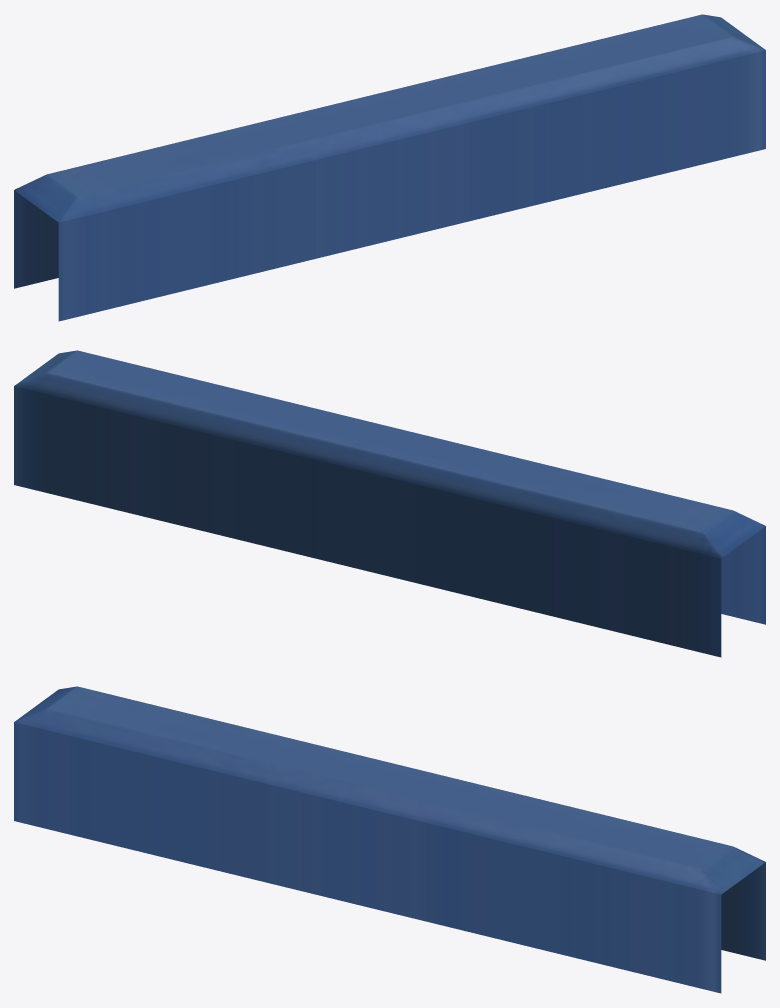
The model's file is Old_Computer_Spacebar_New_2.glb.
3 views of the same model, one above another, from view 1: azimuth 30°, elevation 25°; view 2: azimuth 150°, elevation 25°; view 3: azimuth 330°, elevation 25° (orthographic).
Visible parts, largest first — view 1: Cube.004; view 2: Cube.004; view 3: Cube.004.
Part boxes in pixels (x1=…): Cube.004: x1=14, y1=14, x2=765, y2=321; Cube.004: x1=14, y1=350, x2=765, y2=657; Cube.004: x1=14, y1=686, x2=765, y2=993.
Size of the model in its own units: 1.9 by 0.2907 by 0.2082.
Materials: 1 (1 with a texture image).
